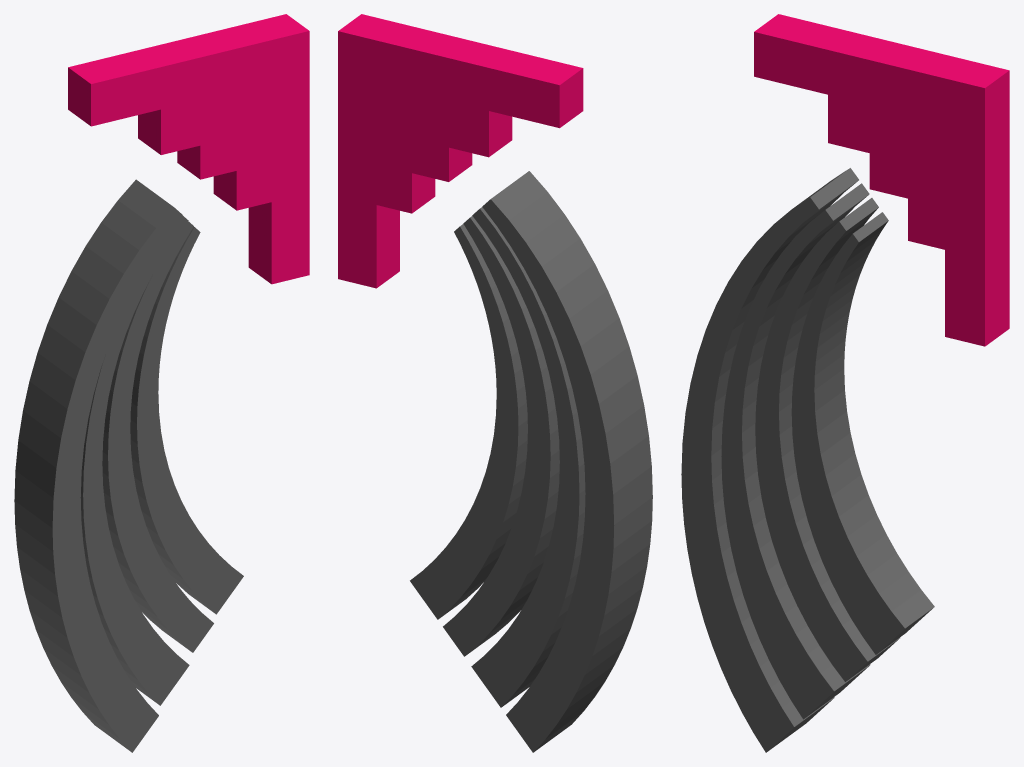
Rendered from blt.gltf.
The picture shows the model from 3 angles, left to right: view 1: azimuth 30°, elevation 25°; view 2: azimuth 150°, elevation 25°; view 3: azimuth 330°, elevation 25°; orthographic projection. The views are drawn at different scales.
Bounding box in the file's own units: 3.92 × 9.15 × 0.9523.
